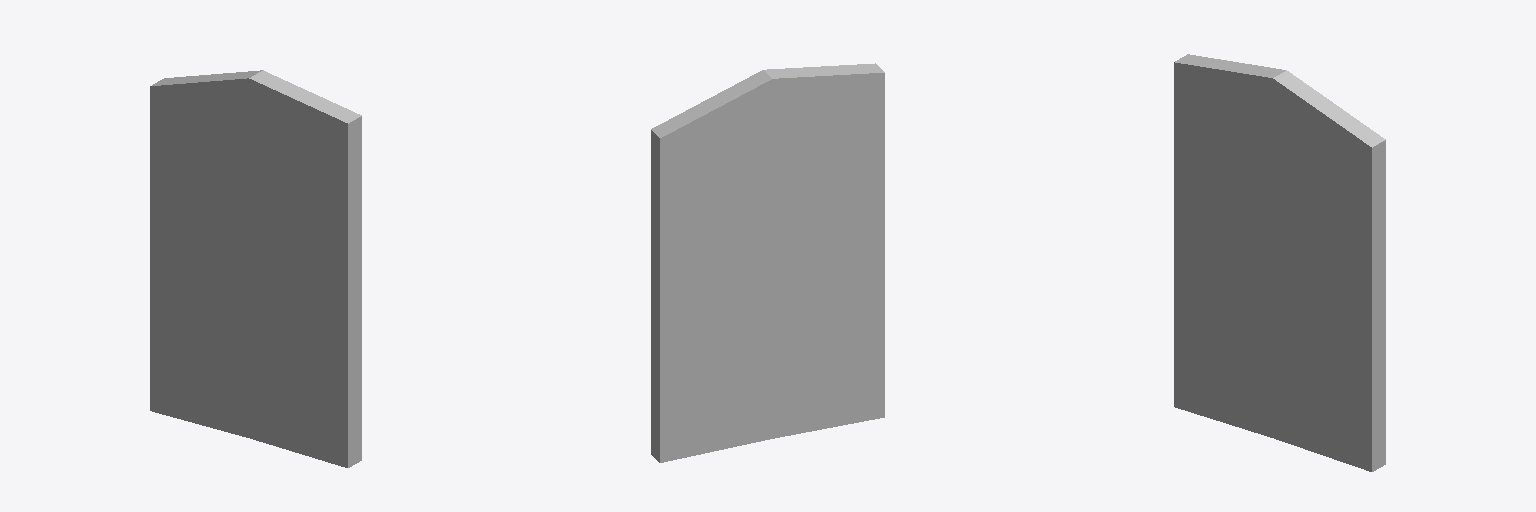
Rendered from Puerta_Bano.obj.
The picture shows the model from 3 angles: view 1: azimuth 90°, elevation 25°; view 2: azimuth 150°, elevation 25°; view 3: azimuth 270°, elevation 25°; orthographic projection.
Visible parts, largest first — view 1: Puerta_Bano_Baño_Cube.002; view 2: Puerta_Bano_Baño_Cube.002; view 3: Puerta_Bano_Baño_Cube.002.
Part boxes in pixels (x1,y1,x2,y2): Puerta_Bano_Baño_Cube.002: (150,70,361,467); Puerta_Bano_Baño_Cube.002: (651,63,884,462); Puerta_Bano_Baño_Cube.002: (1174,54,1385,471).
Bounding box in the file's own units: 1.65 × 4.03 × 2.14.